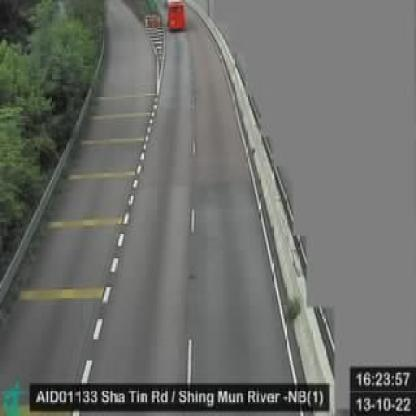Bus: (165, 0, 186, 33)
